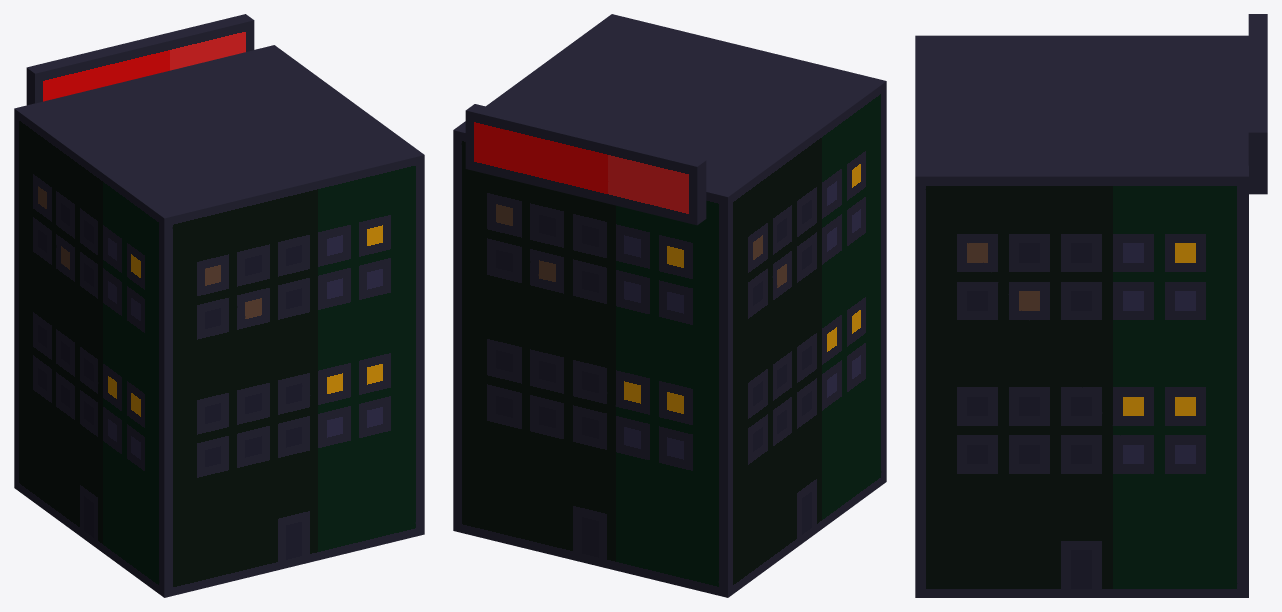
File: edificioC1.fbx
The picture shows the model from 3 angles, left to right: view 1: azimuth 30°, elevation 25°; view 2: azimuth 150°, elevation 25°; view 3: azimuth 270°, elevation 25°; orthographic projection. The views are drawn at different scales.
Visible parts, largest first — view 1: edificioC1; view 2: edificioC1; view 3: edificioC1.
Boxes of the visible parts, bbox=[...] form: edificioC1: bbox=[14, 14, 424, 597]; edificioC1: bbox=[453, 14, 886, 597]; edificioC1: bbox=[915, 14, 1267, 597].
Bounding box in the file's own units: 305 × 458 × 322.
